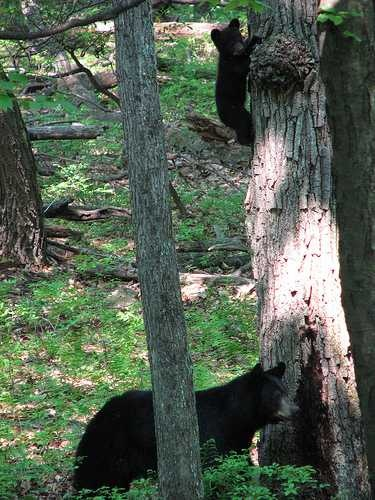bear: (173, 15, 301, 144), (176, 347, 304, 475)
